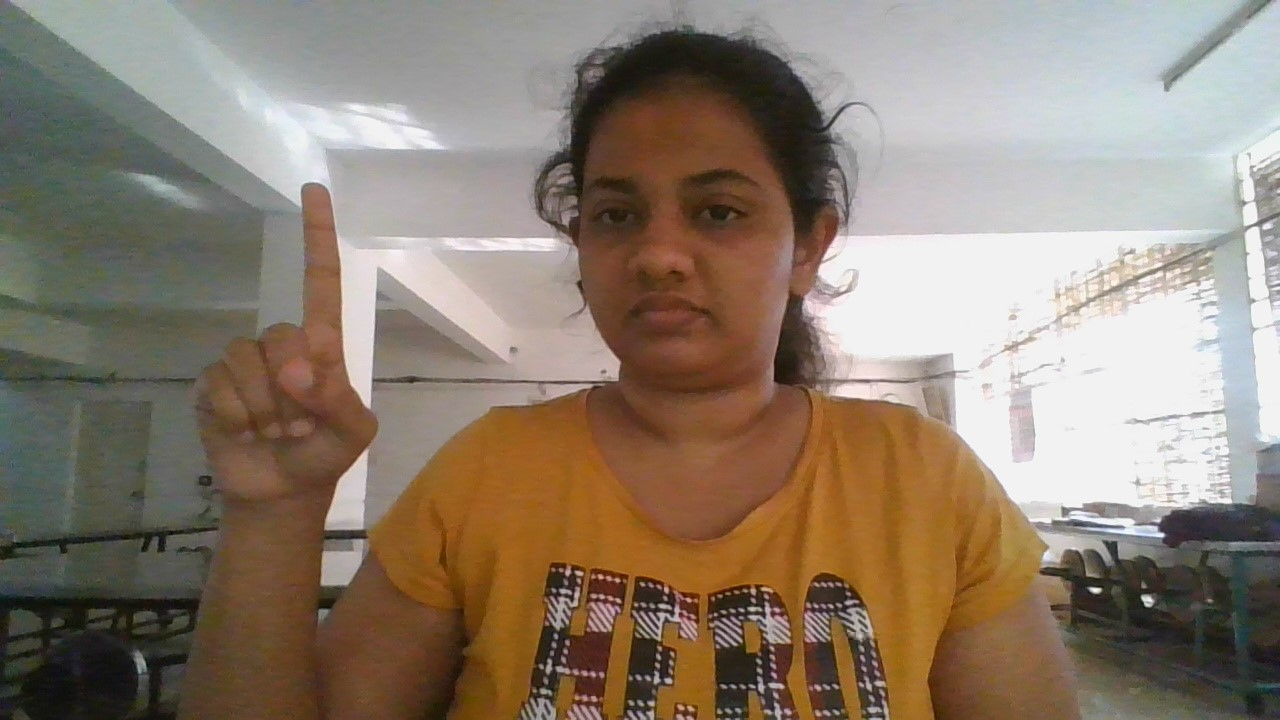d: (187, 175, 384, 508)
